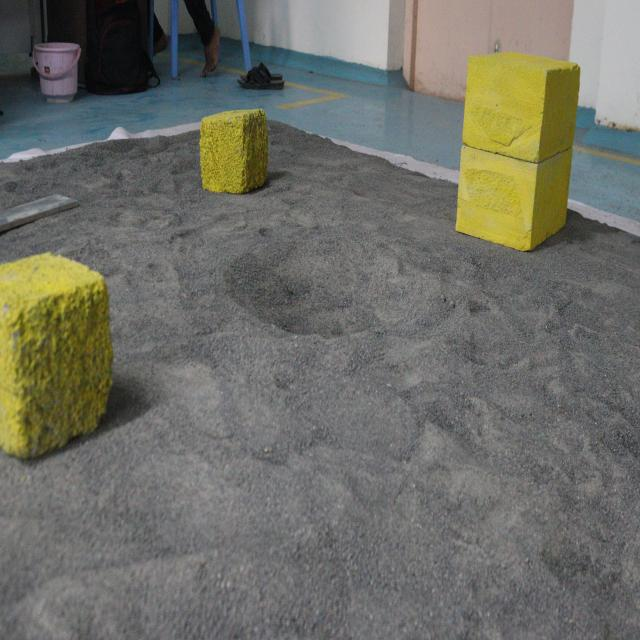box: (451, 46, 572, 255), (0, 261, 109, 472), (201, 101, 271, 205)
crater: (218, 218, 434, 353)
